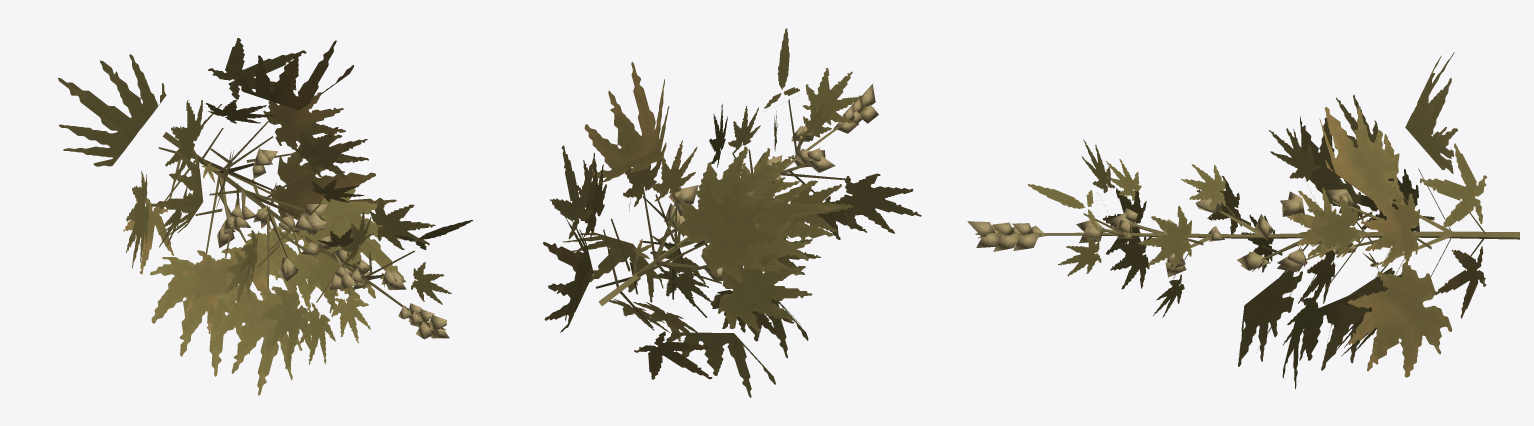
File: p_male_haze_ripe_c2_cards.obj
3 renders of one model, left to right at view 1: azimuth 30°, elevation 25°; view 2: azimuth 150°, elevation 25°; view 3: azimuth 270°, elevation 25°, orthographic.
Bounding box in the file's own units: 1.39 × 1.36 × 1.91.
Materials: 1 (1 with a texture image).
